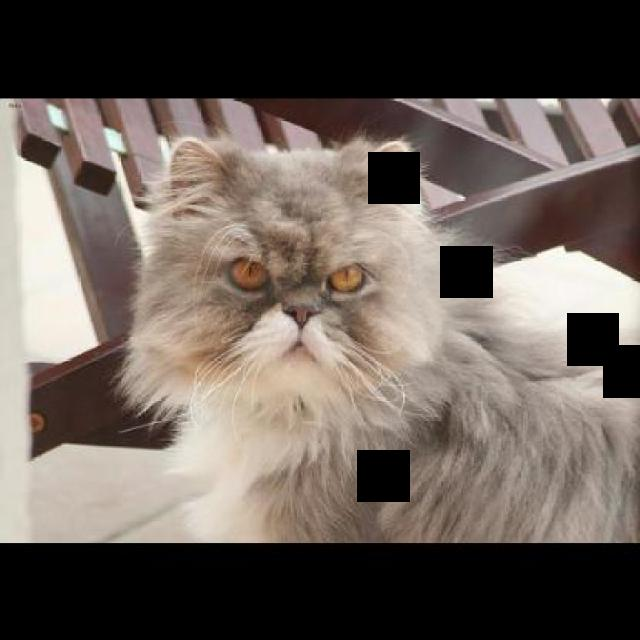unauthorized: (110, 128, 638, 543)
